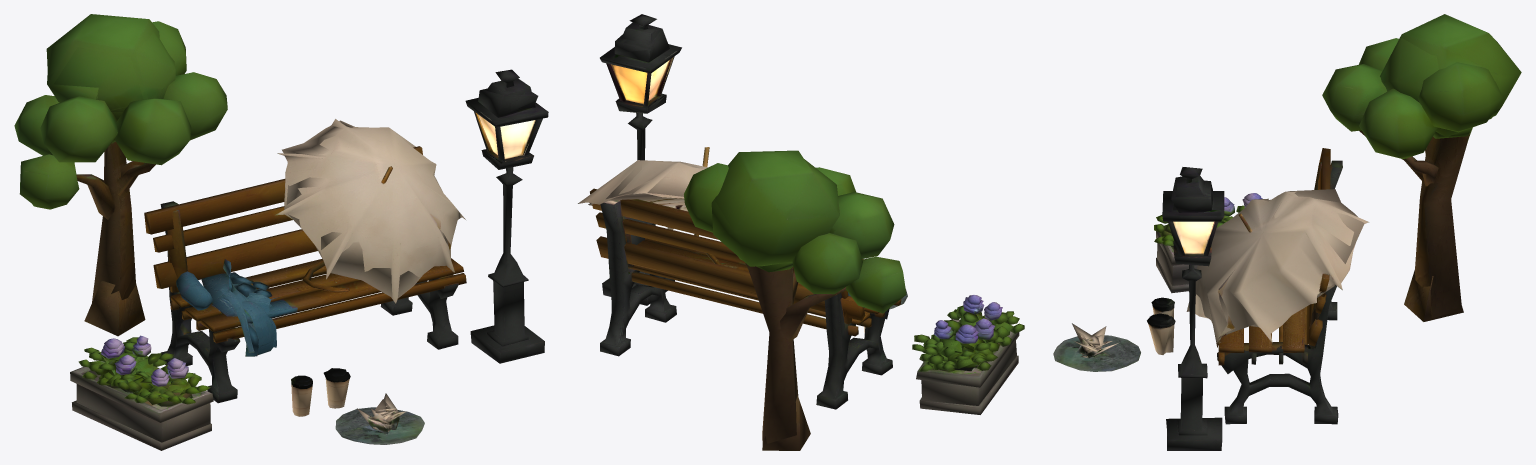
File: rain.glb
3 views of the same model, side by side, from view 1: azimuth 30°, elevation 25°; view 2: azimuth 150°, elevation 25°; view 3: azimuth 270°, elevation 25° (orthographic). The views are drawn at different scales.
Visible parts, largest first — view 1: mesh_node; view 2: mesh_node; view 3: mesh_node.
Boxes of the visible parts, x1,y1,x2,y2 form: mesh_node: (14, 14, 548, 450); mesh_node: (578, 14, 1024, 450); mesh_node: (1053, 14, 1521, 450).
Bounding box in the file's own units: 1 × 0.6836 × 0.998.
Materials: 1 (1 with a texture image).
